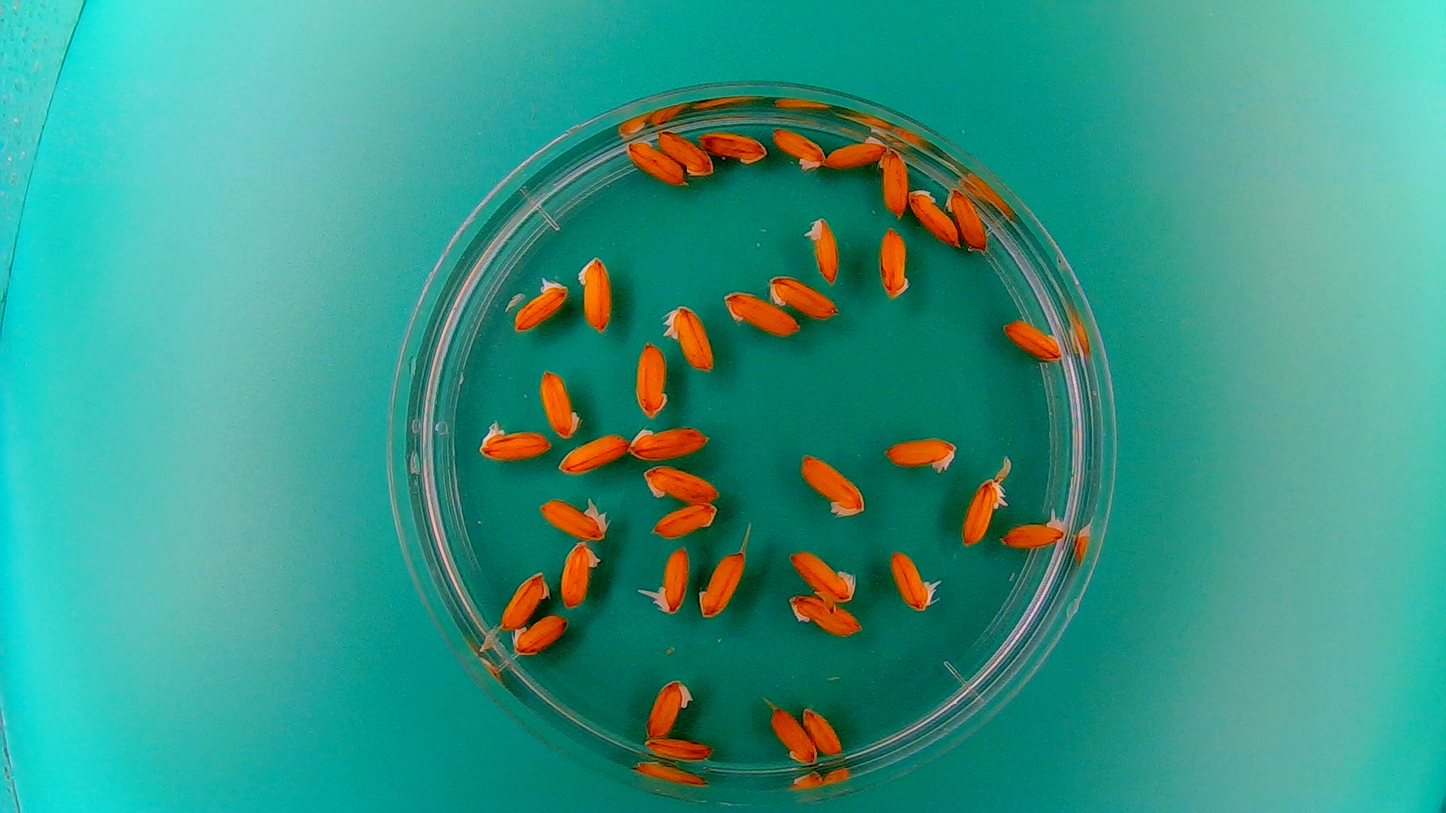no: (796, 448, 869, 519), (720, 286, 803, 338), (785, 544, 858, 603), (1001, 314, 1068, 372), (626, 420, 715, 463), (697, 547, 749, 620), (662, 302, 714, 372), (640, 461, 722, 505), (554, 430, 630, 477), (784, 591, 860, 638), (766, 273, 842, 320), (642, 674, 694, 740), (497, 568, 551, 631), (906, 186, 960, 248), (557, 537, 602, 611), (536, 365, 581, 439), (882, 432, 961, 473), (622, 136, 685, 187), (575, 252, 614, 334), (633, 337, 671, 420), (656, 127, 715, 178), (768, 704, 816, 766), (946, 185, 990, 251), (648, 500, 719, 540), (510, 611, 571, 657), (769, 123, 826, 171), (877, 224, 913, 300), (697, 128, 769, 165), (877, 145, 910, 221), (801, 703, 845, 757), (822, 133, 886, 169), (643, 733, 715, 763)
yes: (958, 470, 1009, 547), (886, 544, 942, 612), (475, 416, 554, 463), (535, 493, 611, 541), (510, 273, 570, 333), (645, 543, 690, 617), (801, 214, 843, 285), (999, 510, 1069, 550)
